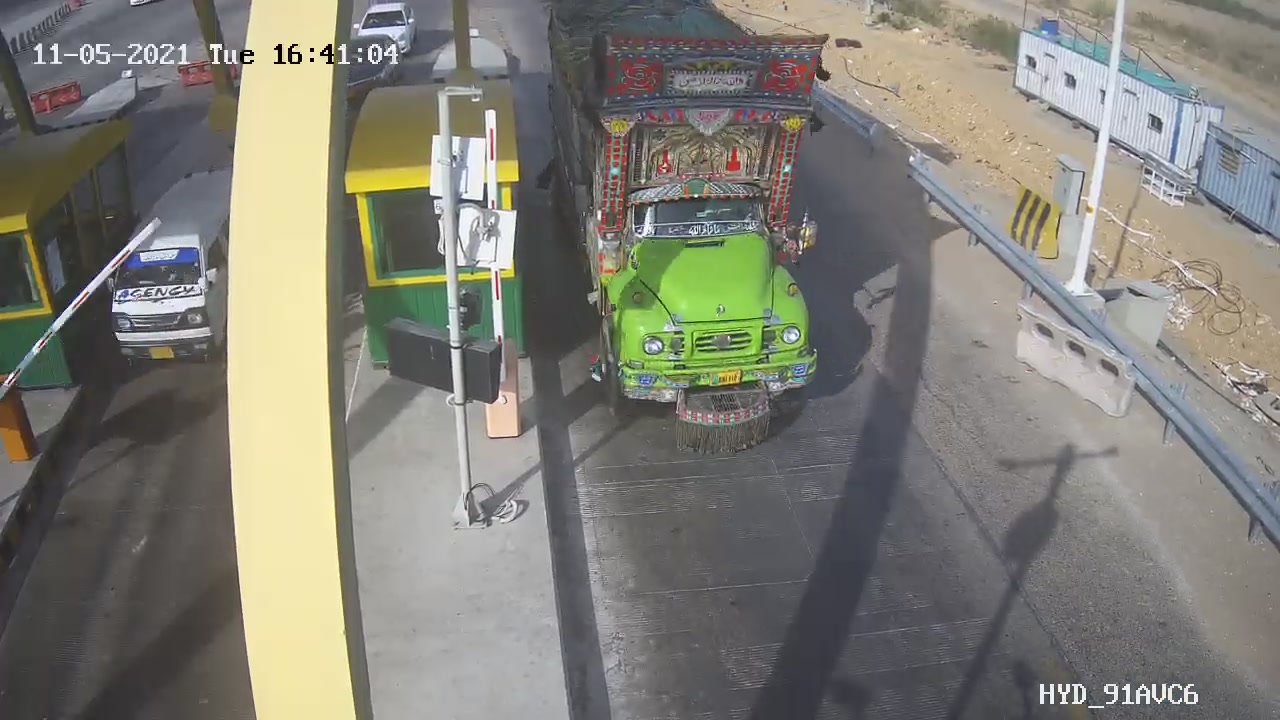F5: (522, 1, 873, 474)
